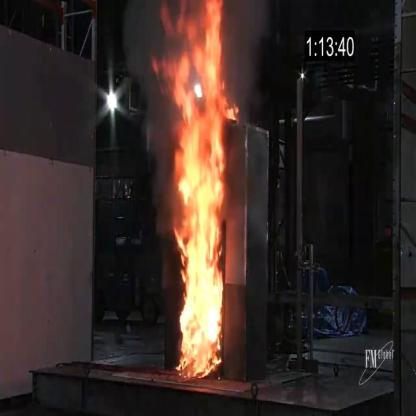fire: (150, 6, 237, 382)
